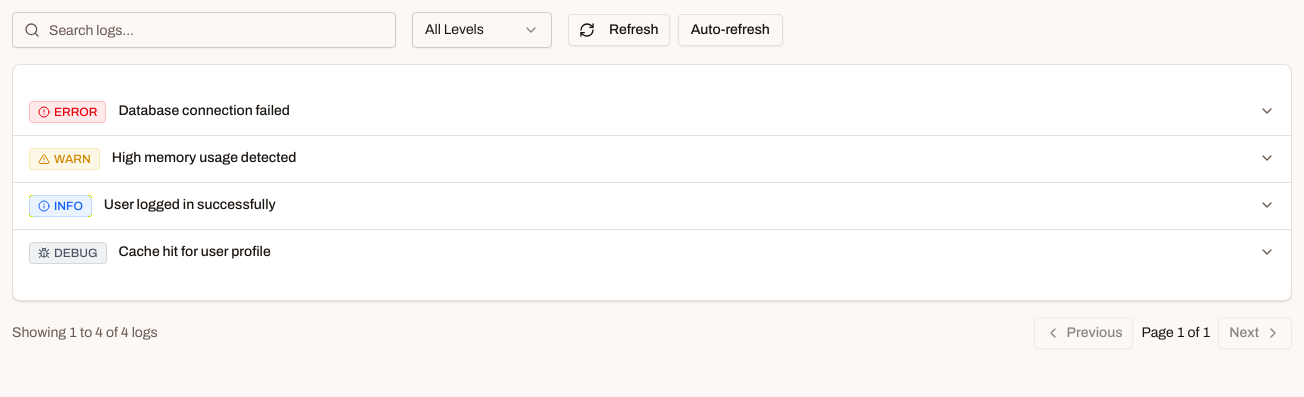
Test case: components/admin/logs-viewer › auto-refresh functionality › should toggle auto-refresh off
# Turn on and then off
Click the button "Auto-refresh". click: point(730, 30)
box: [678, 14, 783, 46]
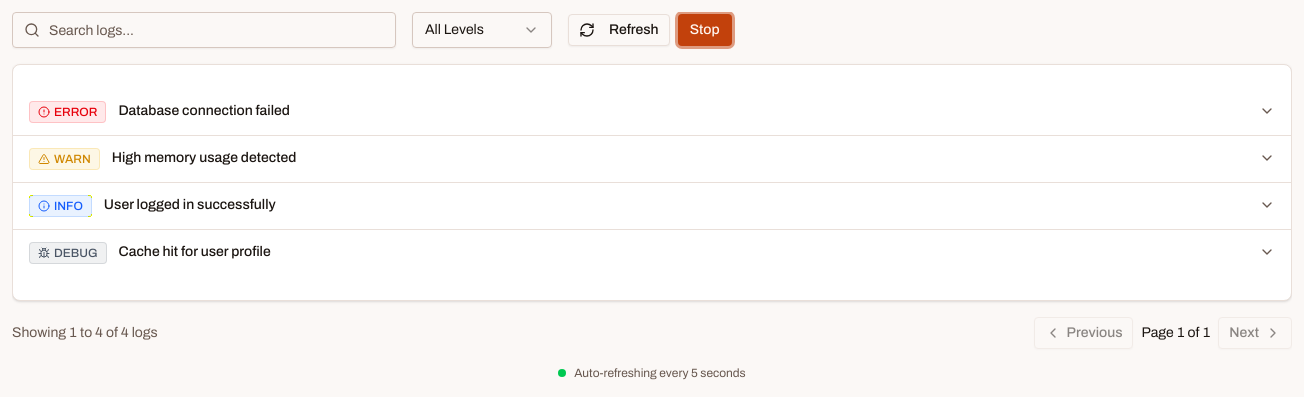
Click the button "Stop". click: point(705, 30)
box: [678, 14, 732, 46]
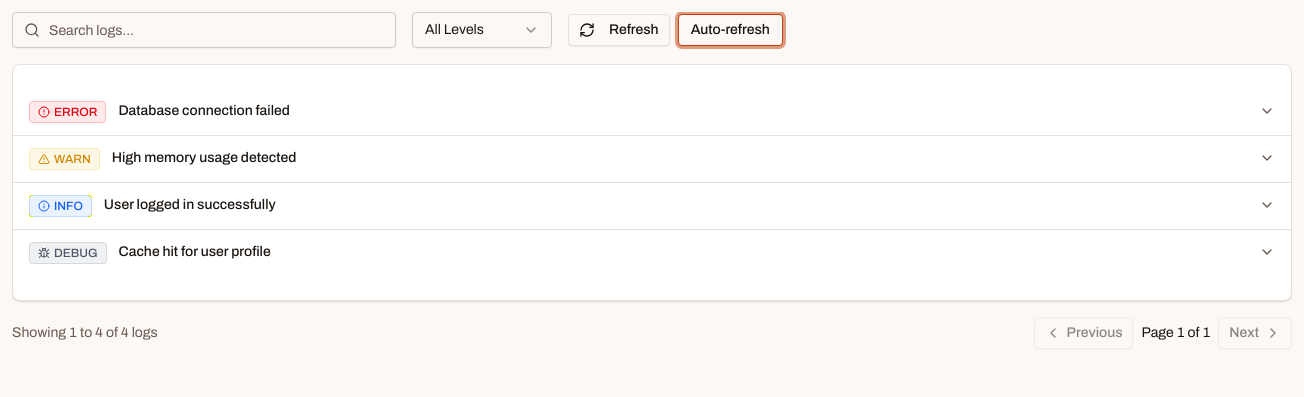
Check: the button "Auto-refresh" is shown, box [678, 14, 783, 46]
Check: the text "Auto-refreshing every 5 seconds" is gone
